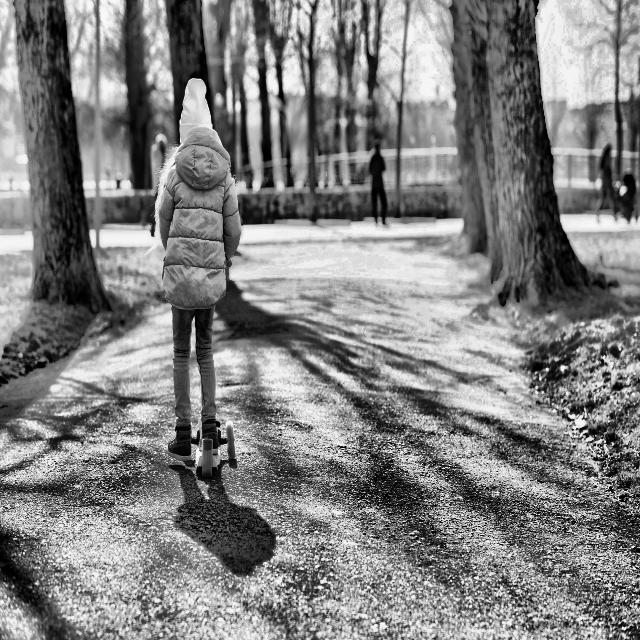Human: (145, 58, 245, 457)
